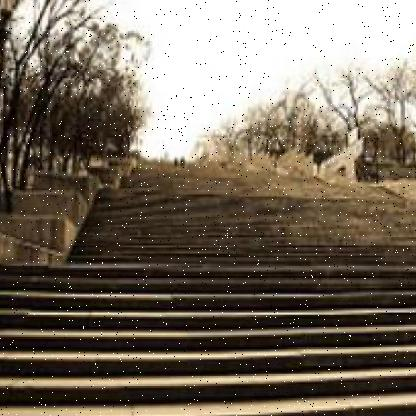stair_up: (36, 249, 407, 405)
